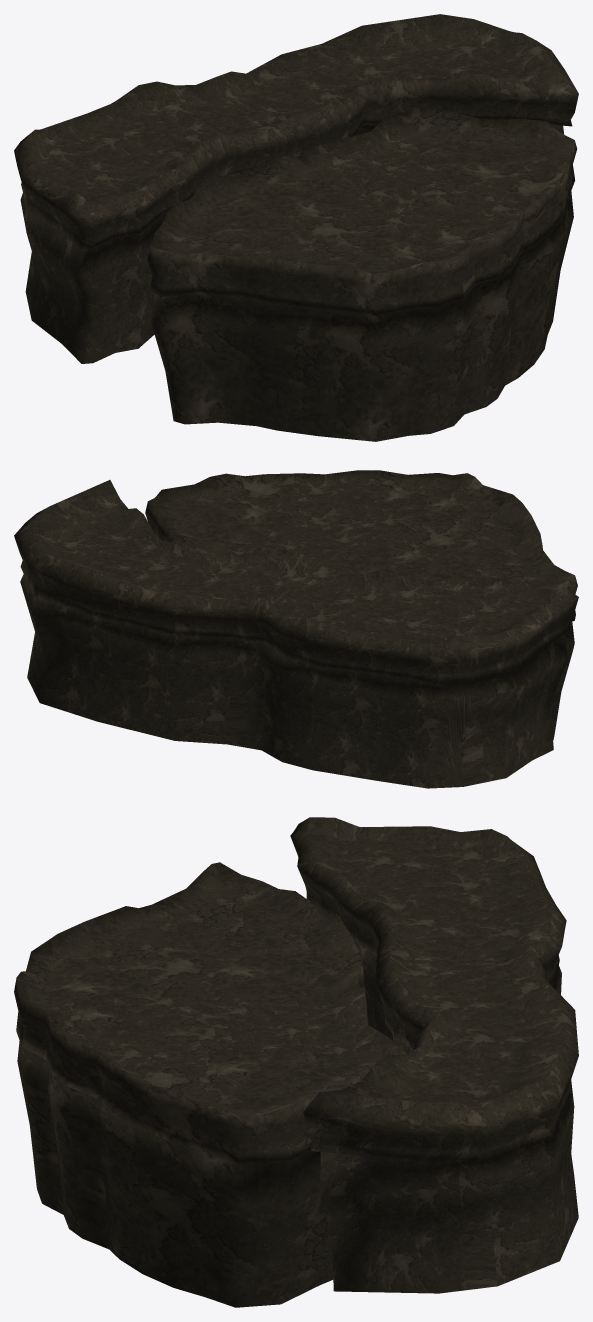
The model's file is chaoVIla.fbx.
3 views of the same model, one above another, from view 1: azimuth 30°, elevation 25°; view 2: azimuth 150°, elevation 25°; view 3: azimuth 270°, elevation 25° (orthographic). The views are drawn at different scales.
Visible parts, largest first — view 1: VilaPlanice, VilaMorro; view 2: VilaMorro, VilaPlanice; view 3: VilaPlanice, VilaMorro.
Part boxes in pixels (x1,y1,x2,y2): VilaPlanice: (147, 107, 577, 441); VilaMorro: (14, 14, 578, 363); VilaMorro: (14, 480, 578, 788); VilaPlanice: (145, 470, 577, 740); VilaPlanice: (14, 862, 406, 1307); VilaMorro: (290, 817, 578, 1293).
Size of the model in its own units: 12545 by 4665 by 9913.
